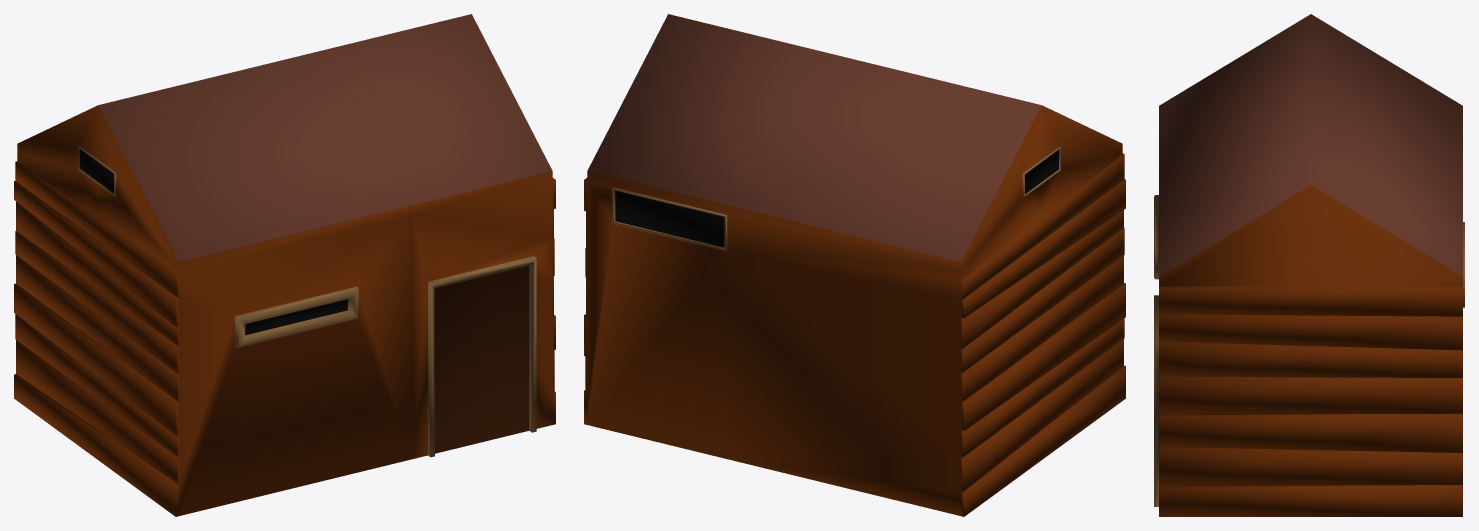
File: FishingLodge.glb
3 views of the same model, side by side, from view 1: azimuth 30°, elevation 25°; view 2: azimuth 150°, elevation 25°; view 3: azimuth 270°, elevation 25° (orthographic). The views are drawn at different scales.
Visible parts, largest first — view 1: FishingLodge; view 2: FishingLodge; view 3: FishingLodge.
Part boxes in pixels (x1,y1,x2,y2): FishingLodge: (14,14,555,516); FishingLodge: (584,14,1125,516); FishingLodge: (1154,14,1464,516).
Size of the model in its own units: 4.07 by 3.6 by 3.07.
Materials: 1 (1 with a texture image).
